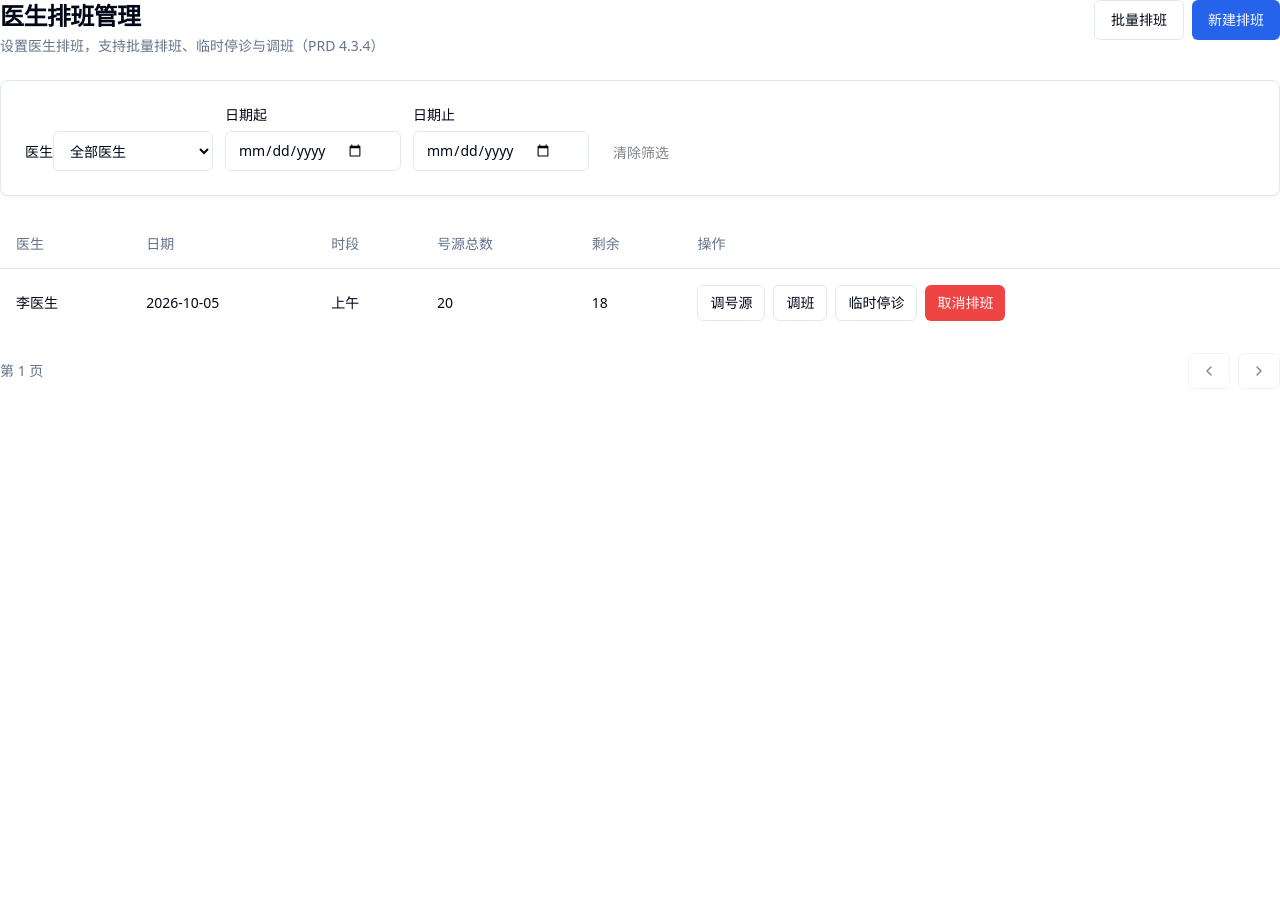
Test: ScheduleManagePage › 撞唯一索引时把后端的 2002 人话显示在弹窗里，不静默关窗
The width and height of the screenshot is (1280, 900).
Check: the table is shown, box x1=0 y1=220 x2=1279 y2=336
Click the button "新建排班" at coordinates (1236, 20), box x1=1192 y1=0 x2=1279 y2=40
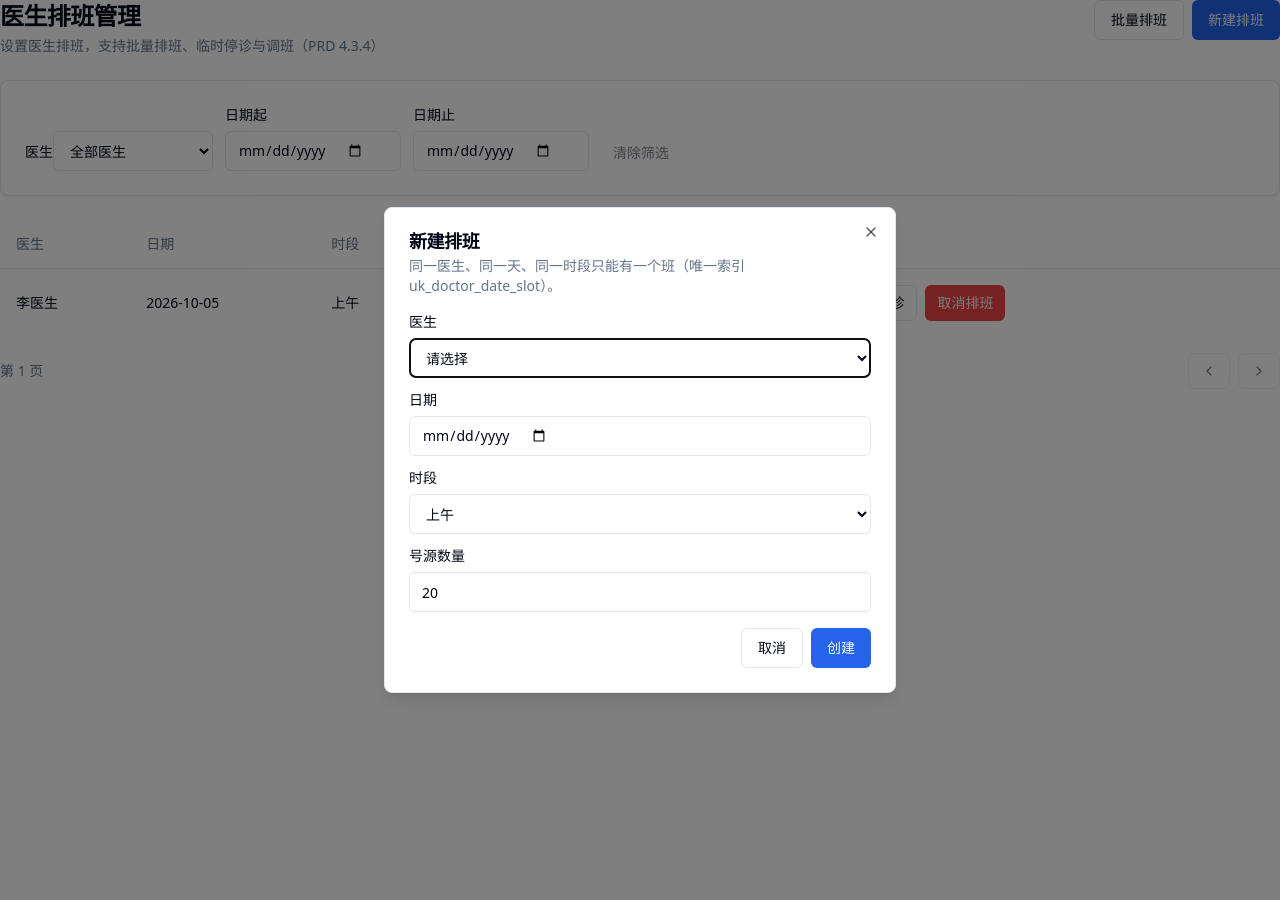
Select "李医生" in the dropdown labelled "医生" at coordinates (640, 358), box x1=409 y1=338 x2=871 y2=378
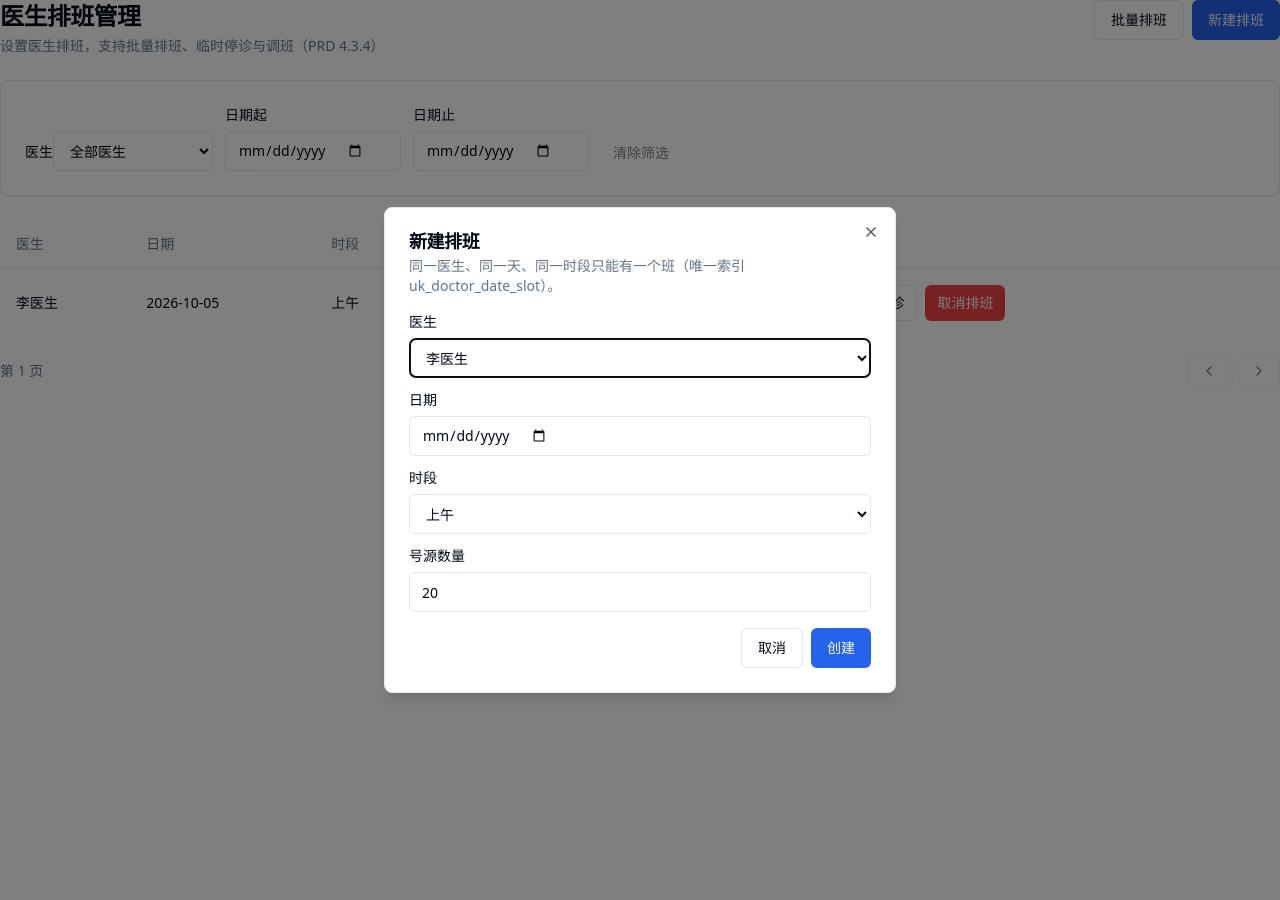
Type "2026-10-05" into the date field labelled "日期" at coordinates (640, 436), box x1=409 y1=416 x2=871 y2=456
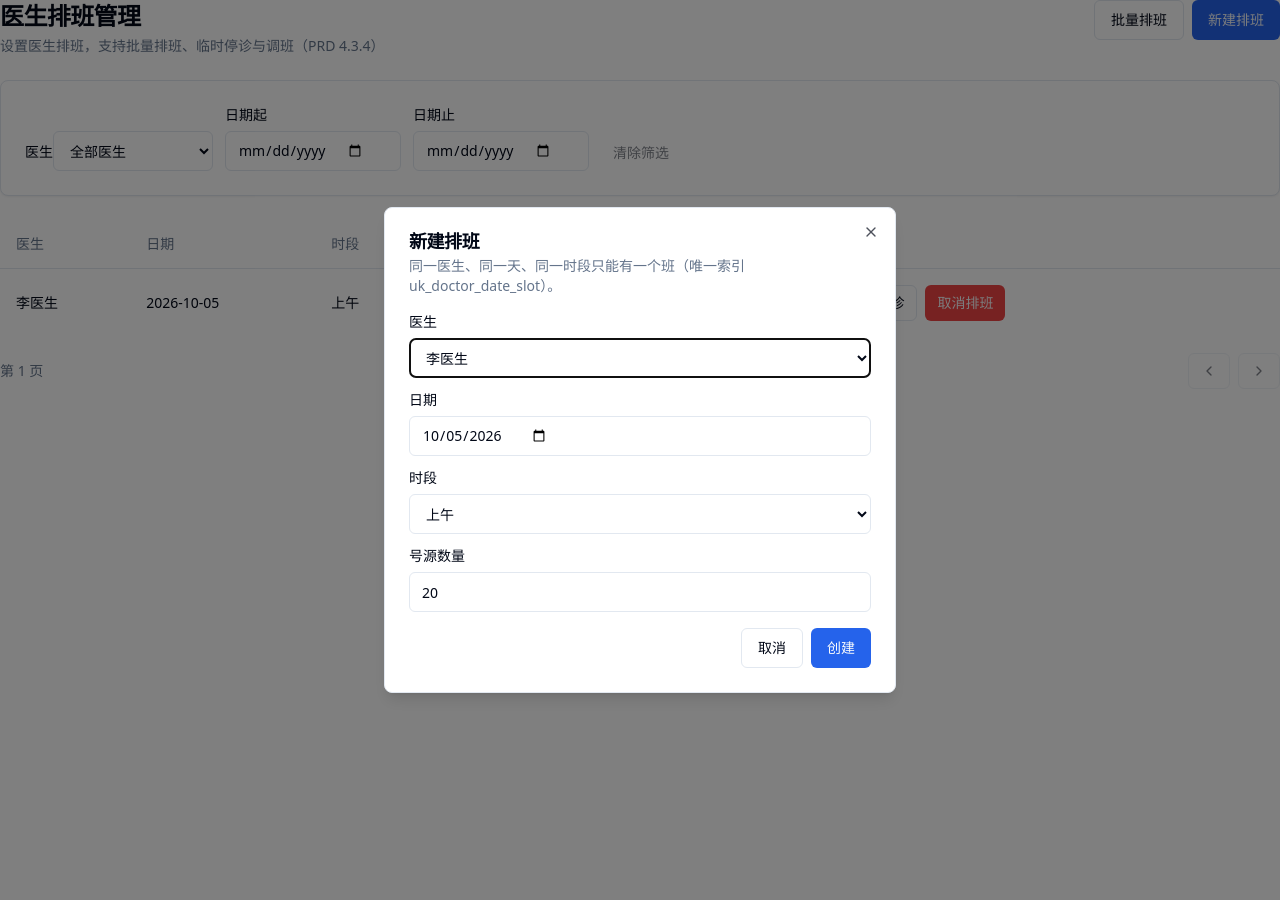
Click the button "创建" at coordinates (841, 648), box x1=811 y1=628 x2=871 y2=668
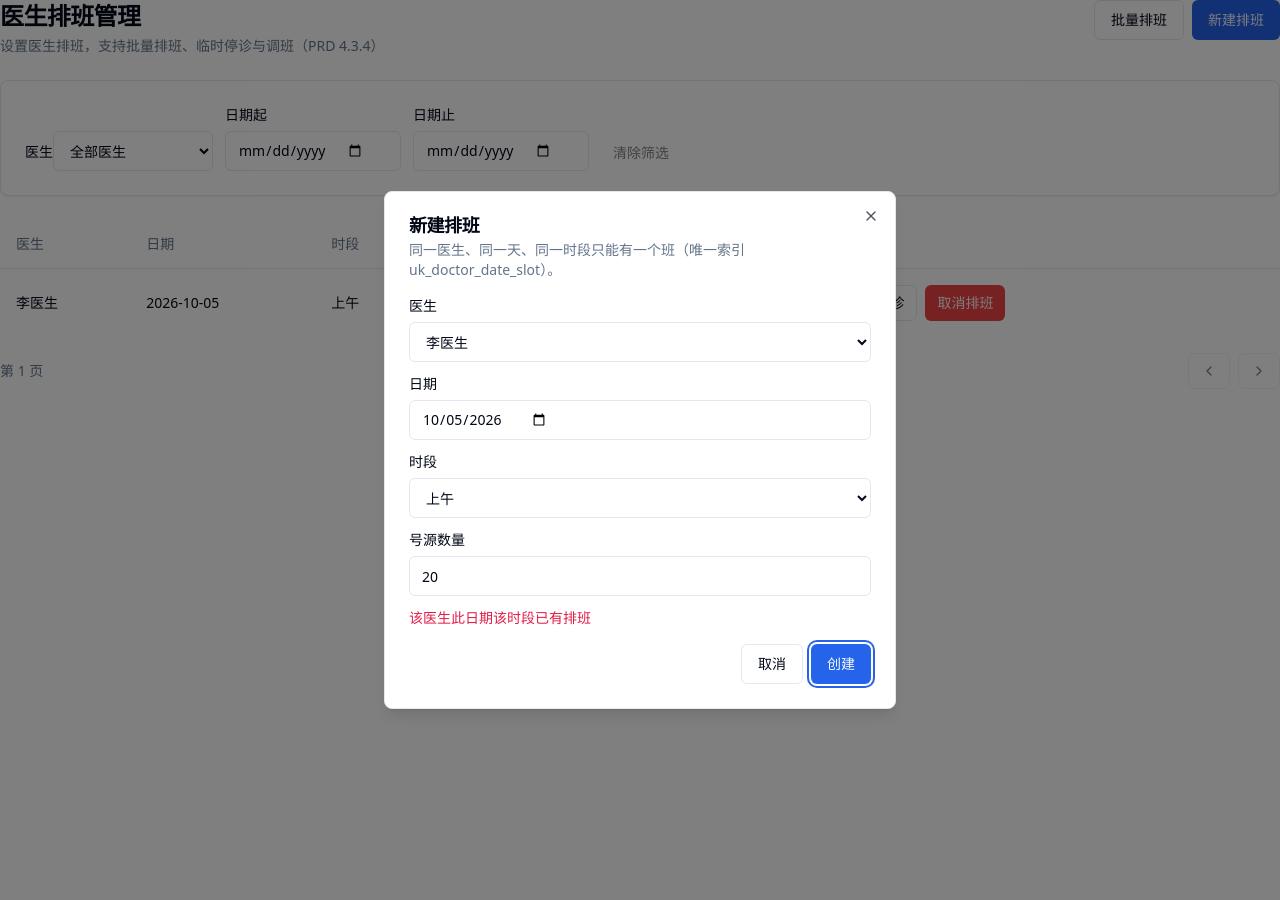
Check: the message reads "该医生此日期该时段已有排班", box x1=409 y1=608 x2=591 y2=627
